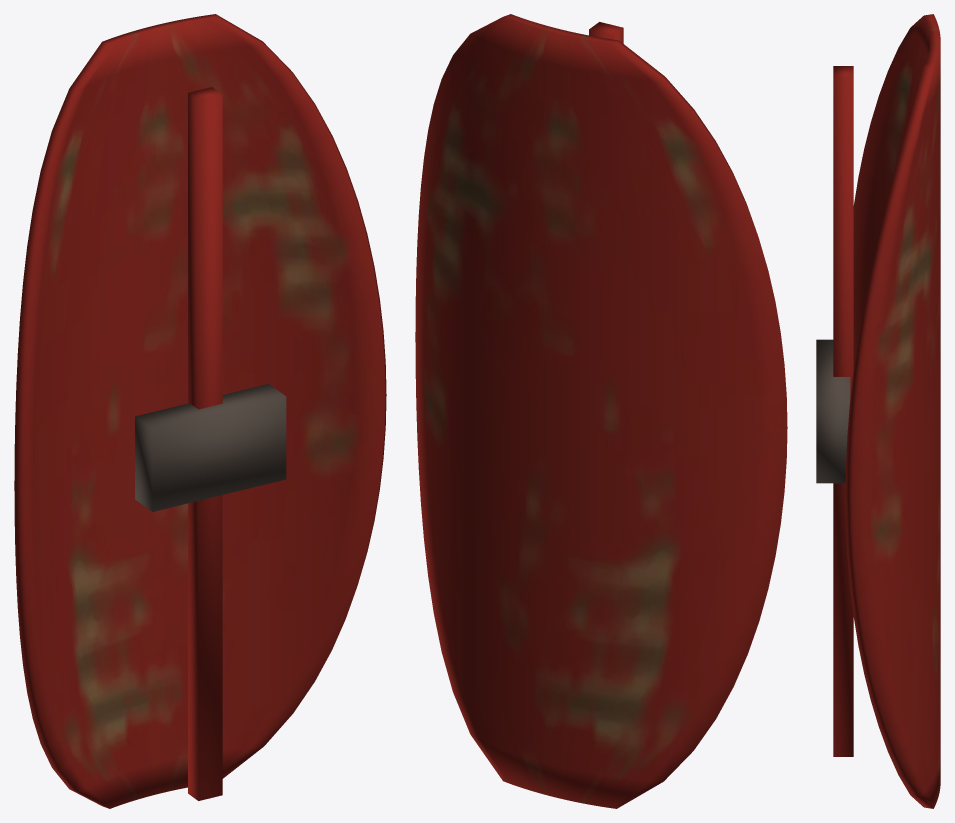
File: scutum.glb
The picture shows the model from 3 angles, left to right: view 1: azimuth 30°, elevation 25°; view 2: azimuth 150°, elevation 25°; view 3: azimuth 270°, elevation 25°; orthographic projection. The views are drawn at different scales.
Parts seen in each view (by area): view 1: scutum; view 2: scutum; view 3: scutum.
Part boxes in pixels (left/top/right/bottom): scutum: left=14, top=14, right=386, bottom=808; scutum: left=415, top=14, right=787, bottom=808; scutum: left=816, top=14, right=940, bottom=808.
Bounding box in the file's own units: 0.6114 × 1.2 × 0.1825.
Materials: 2 (2 with a texture image).
